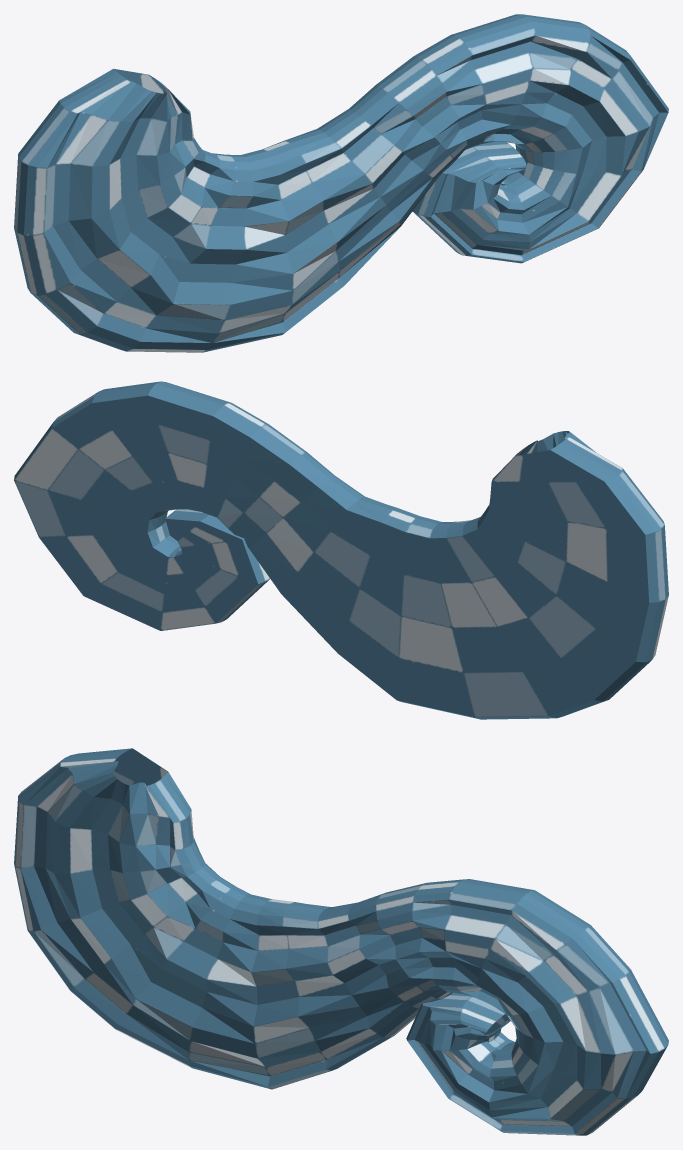
File: galaxy2.obj
3 renders of one model, top to bottom at view 1: azimuth 30°, elevation 25°; view 2: azimuth 150°, elevation 25°; view 3: azimuth 330°, elevation 25°, orthographic.
Parts seen in each view (by area): view 1: 円.001; view 2: 円.001; view 3: 円.001.
Part boxes in pixels (x1,y1,x2,y2): 円.001: [14, 14, 668, 352]; 円.001: [14, 381, 668, 719]; 円.001: [14, 748, 668, 1135].
Size of the model in its own units: 14.74 by 6.43 by 1.17.
1 material, 1 textured.
